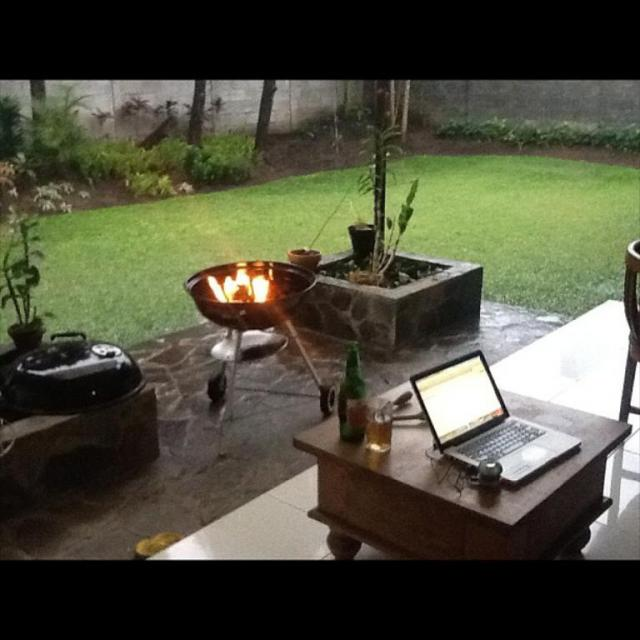desk: (271, 344, 629, 555)
laptop: (411, 349, 584, 486)
